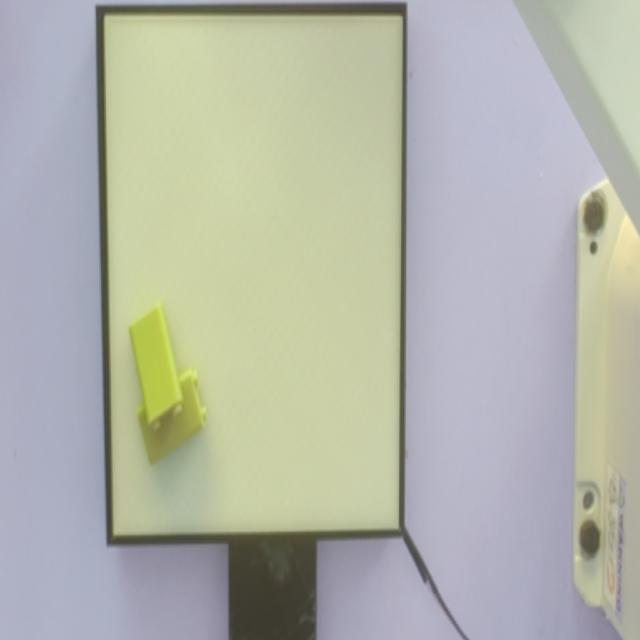bateria: (127, 299, 184, 435)
mesa: (96, 4, 406, 547)
